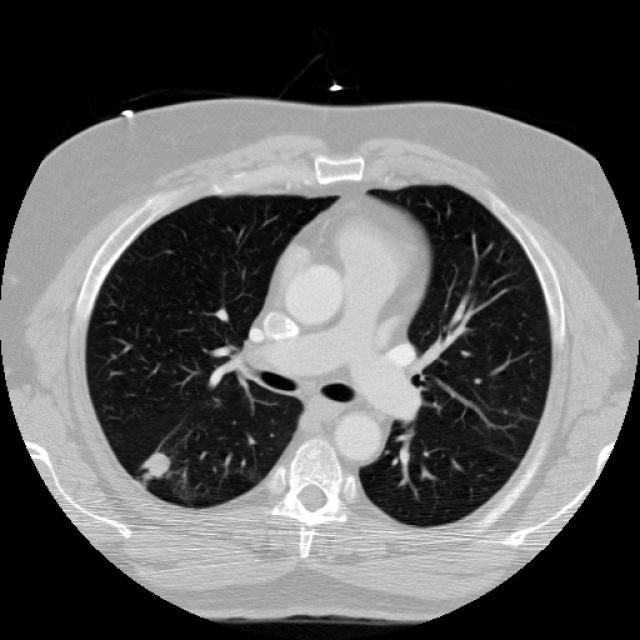nodule: (129, 438, 181, 490)
